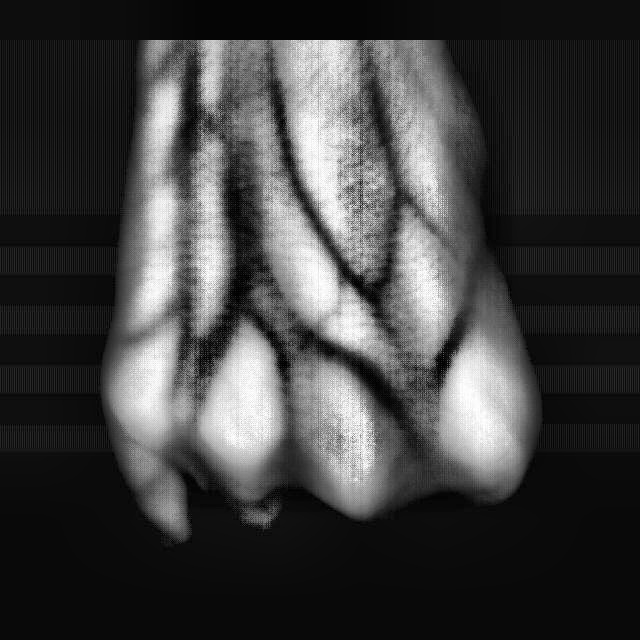Vein: (215, 96, 258, 303)
